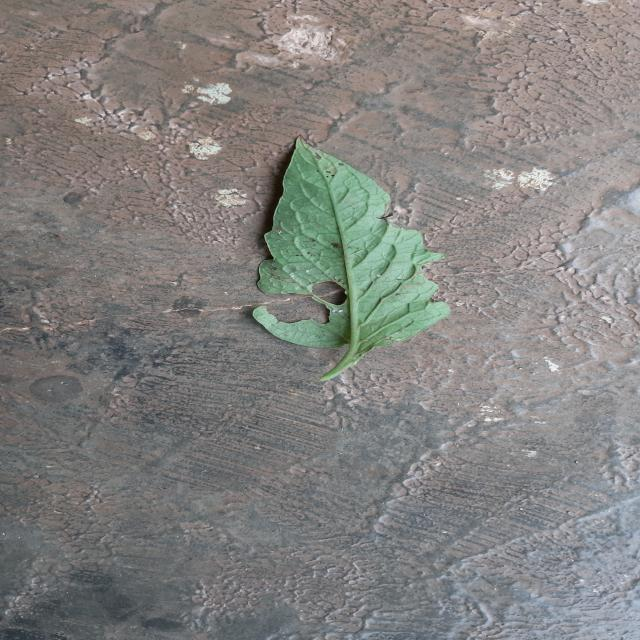tomato: (253, 139, 451, 381)
